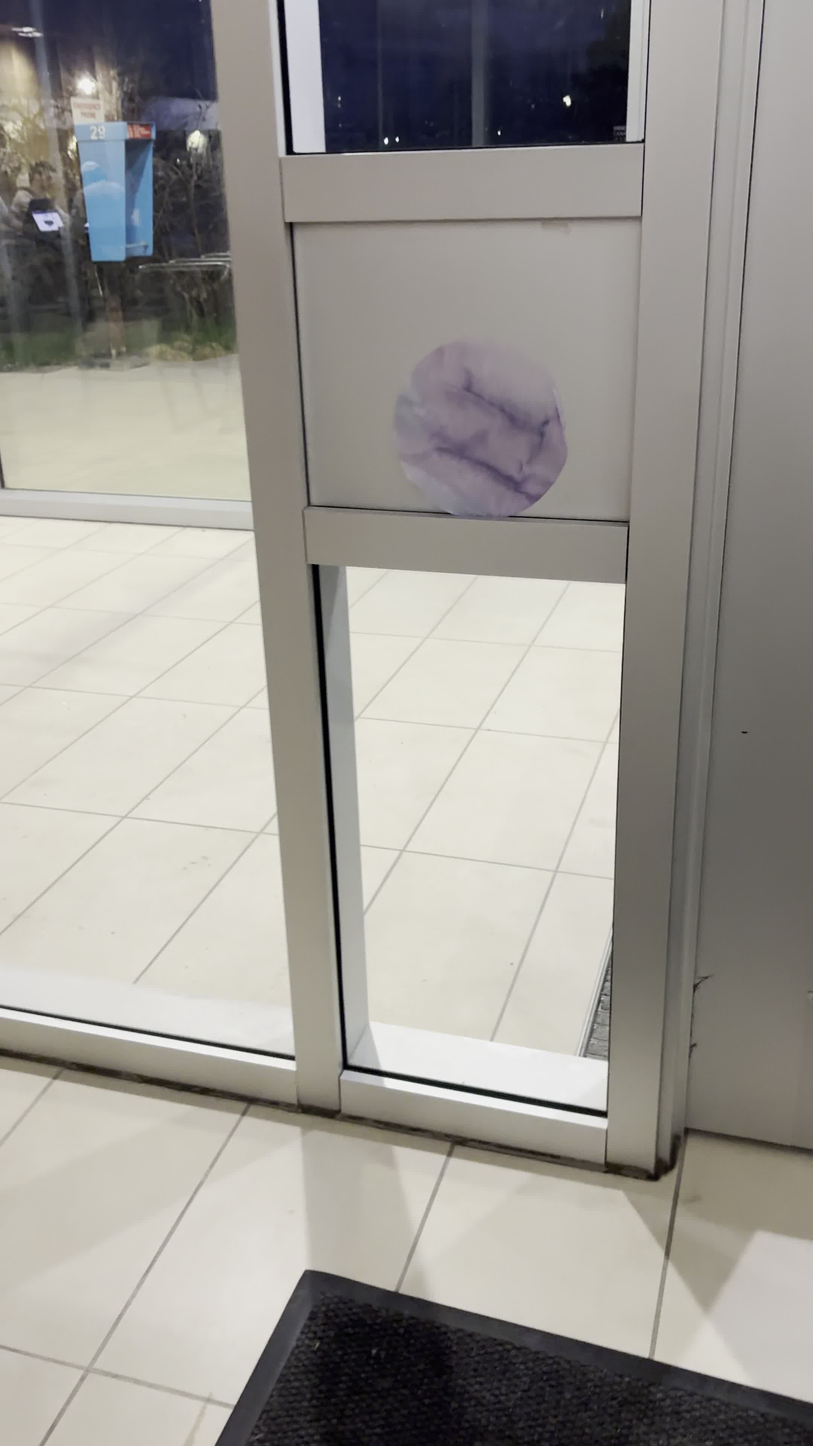Target: (389, 335, 570, 522)
